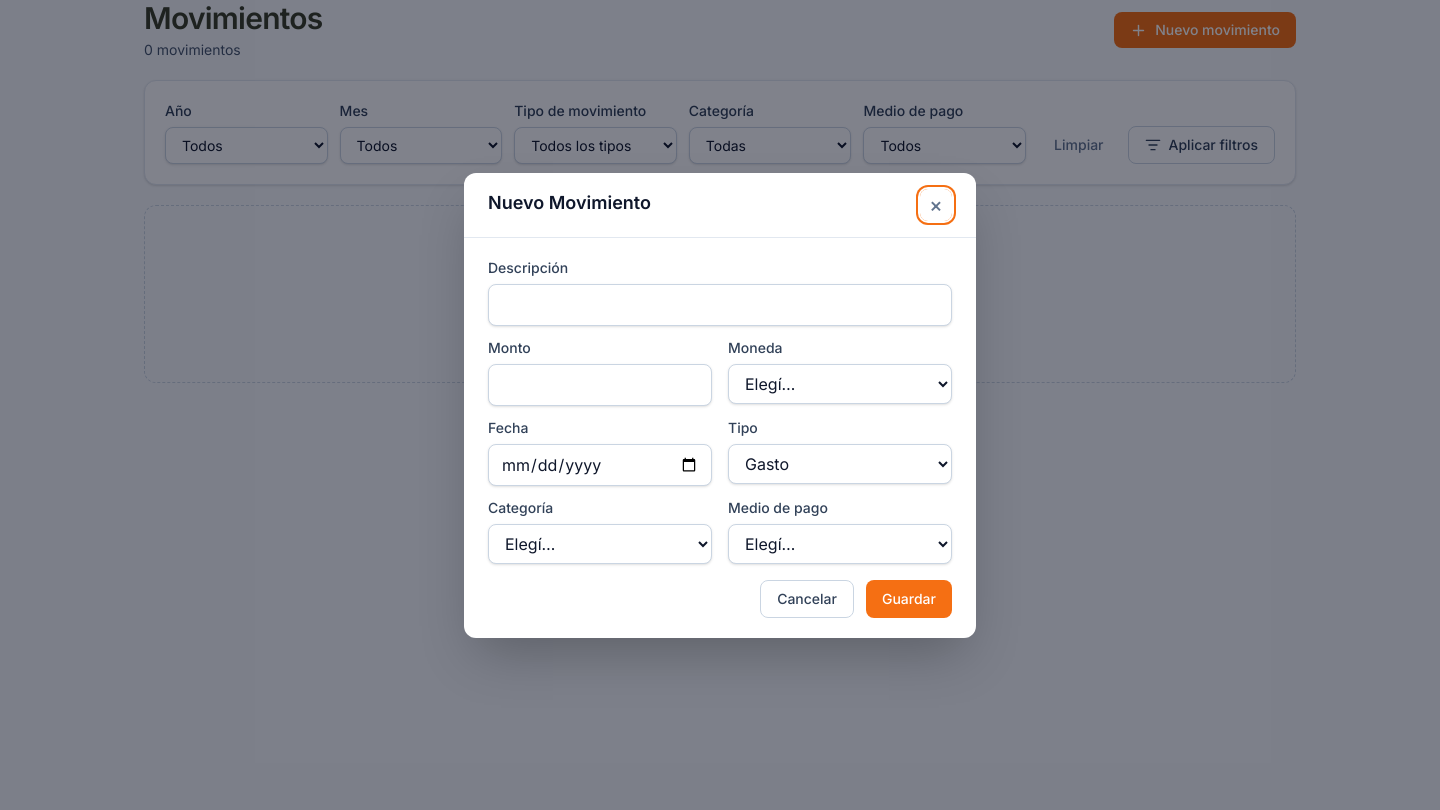
Test: abre el alta desde el Dashboard y limpia el parámetro al cerrar
This screenshot has width=1440, height=810.
Click the button named "Cerrar" at coordinates (936, 204), box [920,188,952,220]
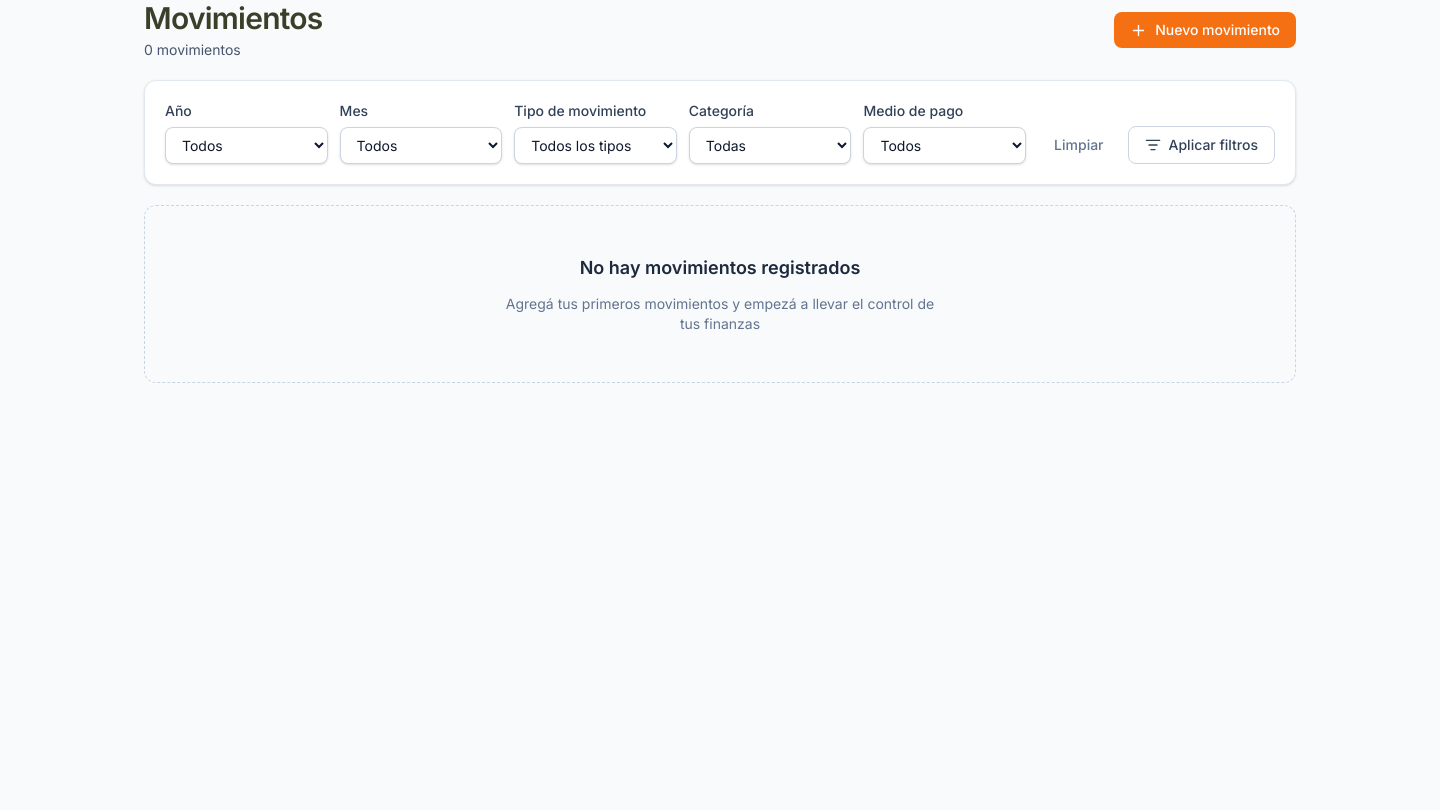
Expected: the dialog is gone
